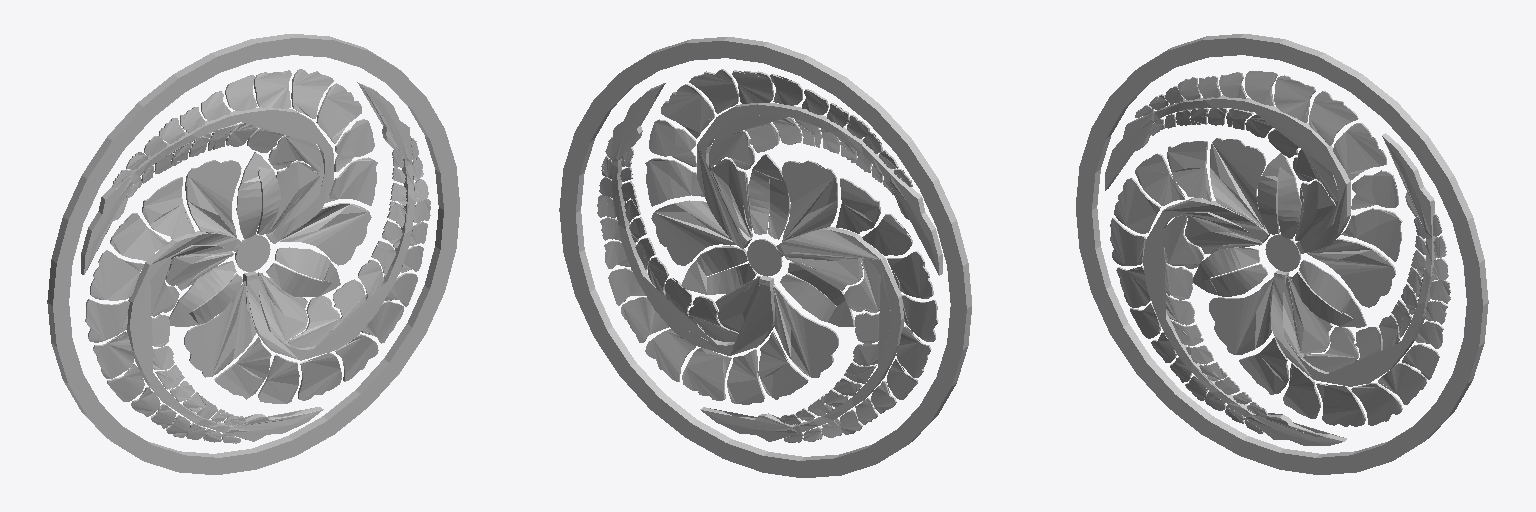
File: MeshIkedaLotus.obj
3 renders of one model, left to right at view 1: azimuth 30°, elevation 25°; view 2: azimuth 150°, elevation 25°; view 3: azimuth 330°, elevation 25°, orthographic.
Visible parts, largest first — view 1: Circle.001; view 2: Circle.001; view 3: Circle.001.
Boxes of the visible parts, x1,y1,x2,y2 form: Circle.001: [47, 34, 459, 474]; Circle.001: [559, 37, 971, 477]; Circle.001: [1076, 34, 1488, 474].
Bounding box in the file's own units: 20.39 × 20.39 × 0.9502.